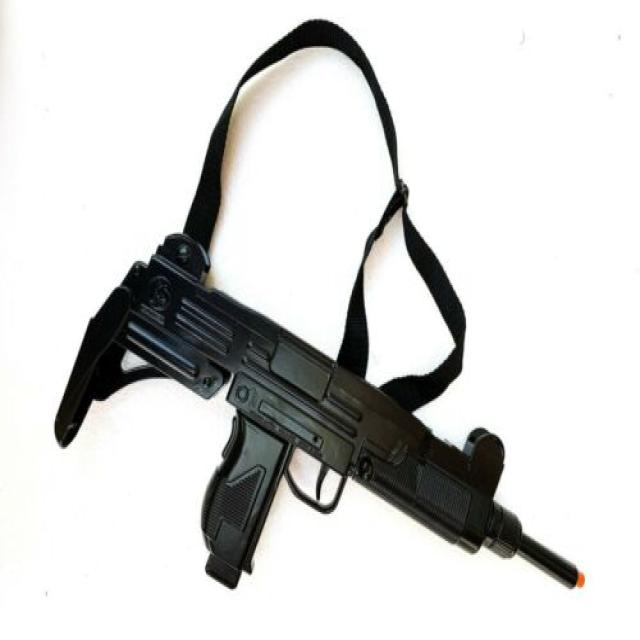SMG: (54, 236, 584, 591)
